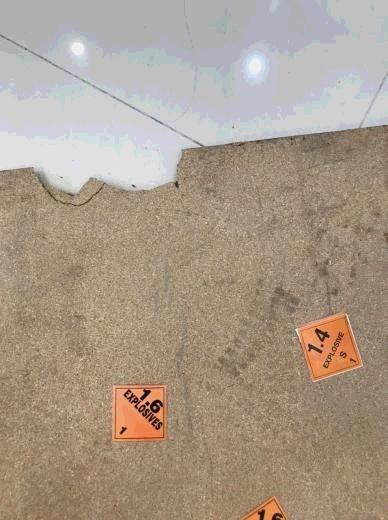explosive: (295, 312, 363, 381), (111, 384, 168, 441)
